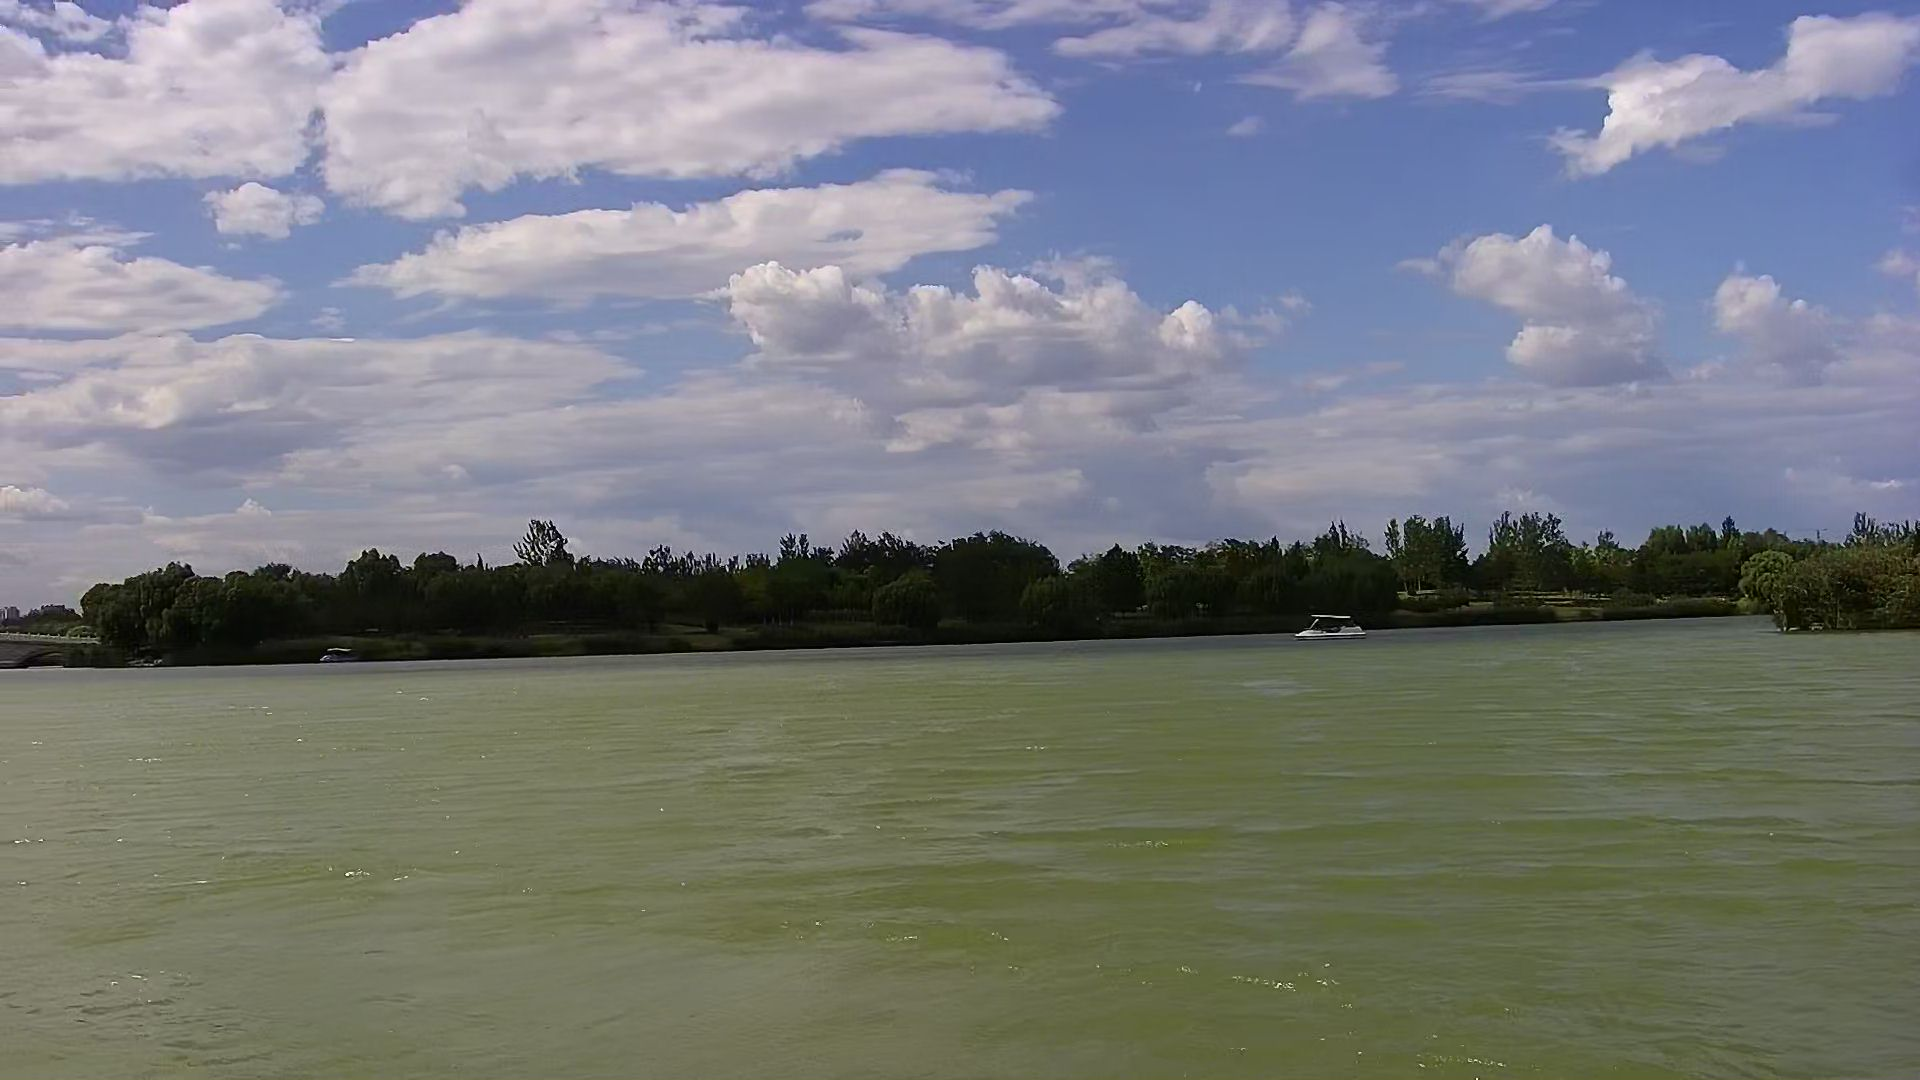boat: (1295, 611, 1371, 644), (314, 642, 367, 665)
bridge: (1, 629, 102, 667)
